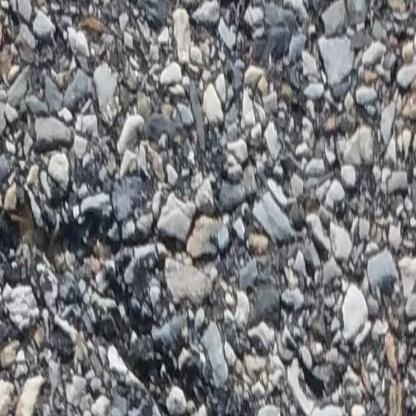Cracks: (0, 206, 244, 416)
